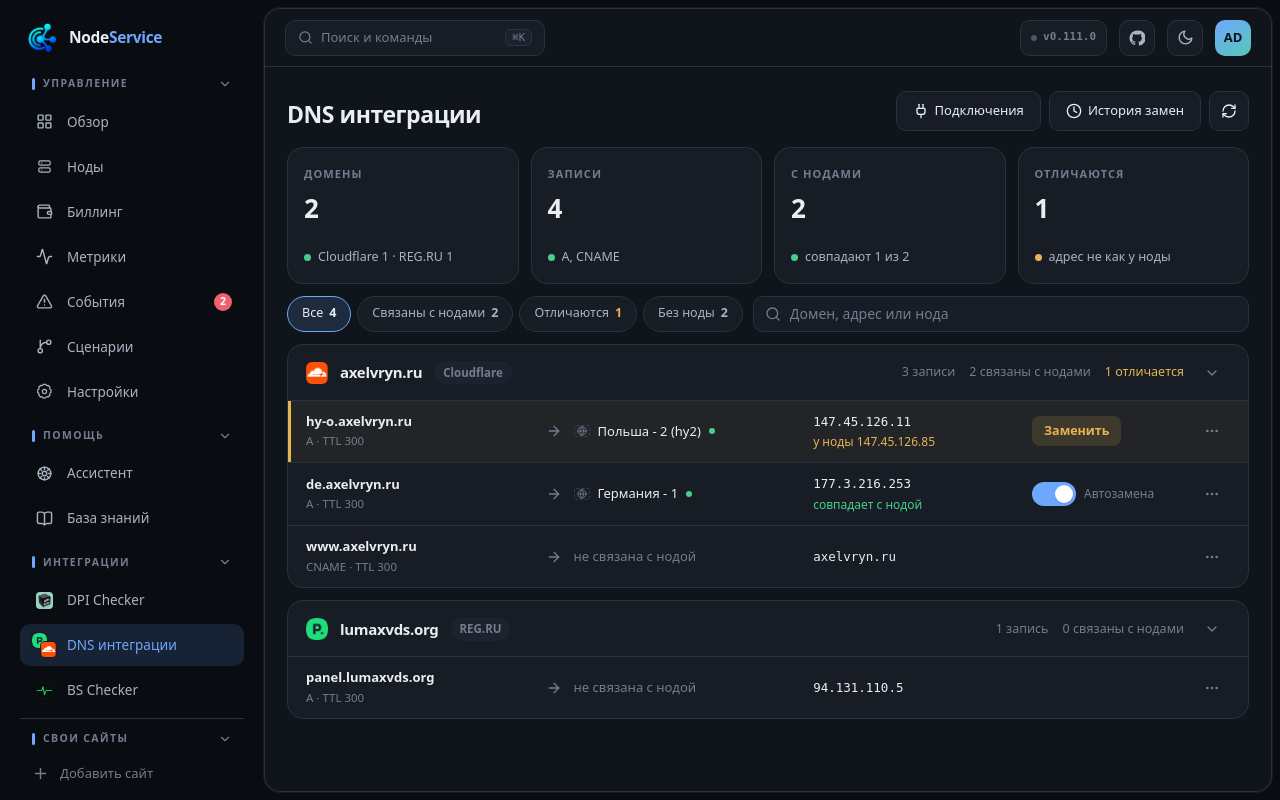
it: DNS: свой адрес вместо адреса ноды (вариант B) › запись без ноды открывается на «Свой адрес»: ошибка по-русски, замена уходит со своим адресом
Click the button with aria-label "Запись panel.lumaxvds.org" at (370, 677), box [306,668,1220,704]
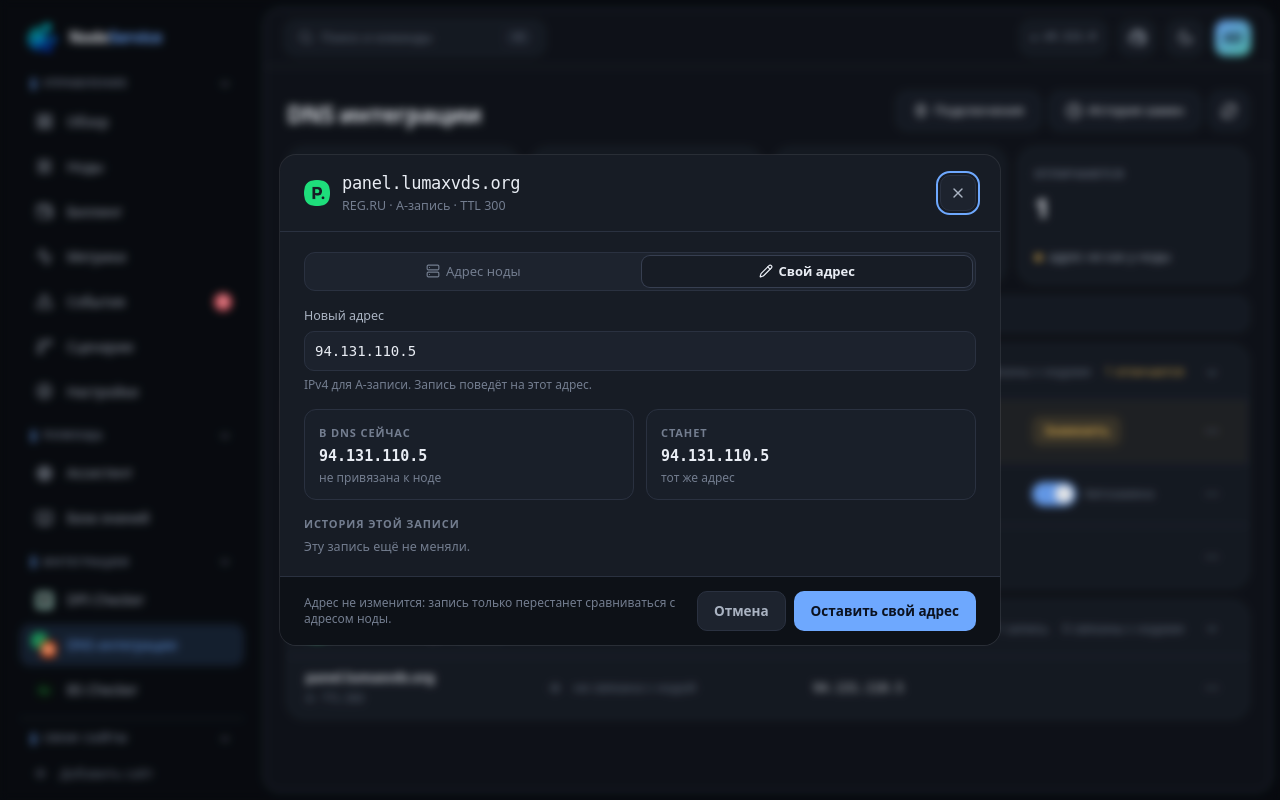
Check: the field labelled "Новый адрес" holds "94.131.110.5"
Replace the text in the field labelled "Новый адрес" with "203.0.113." at (640, 350), box [304,330,976,370]
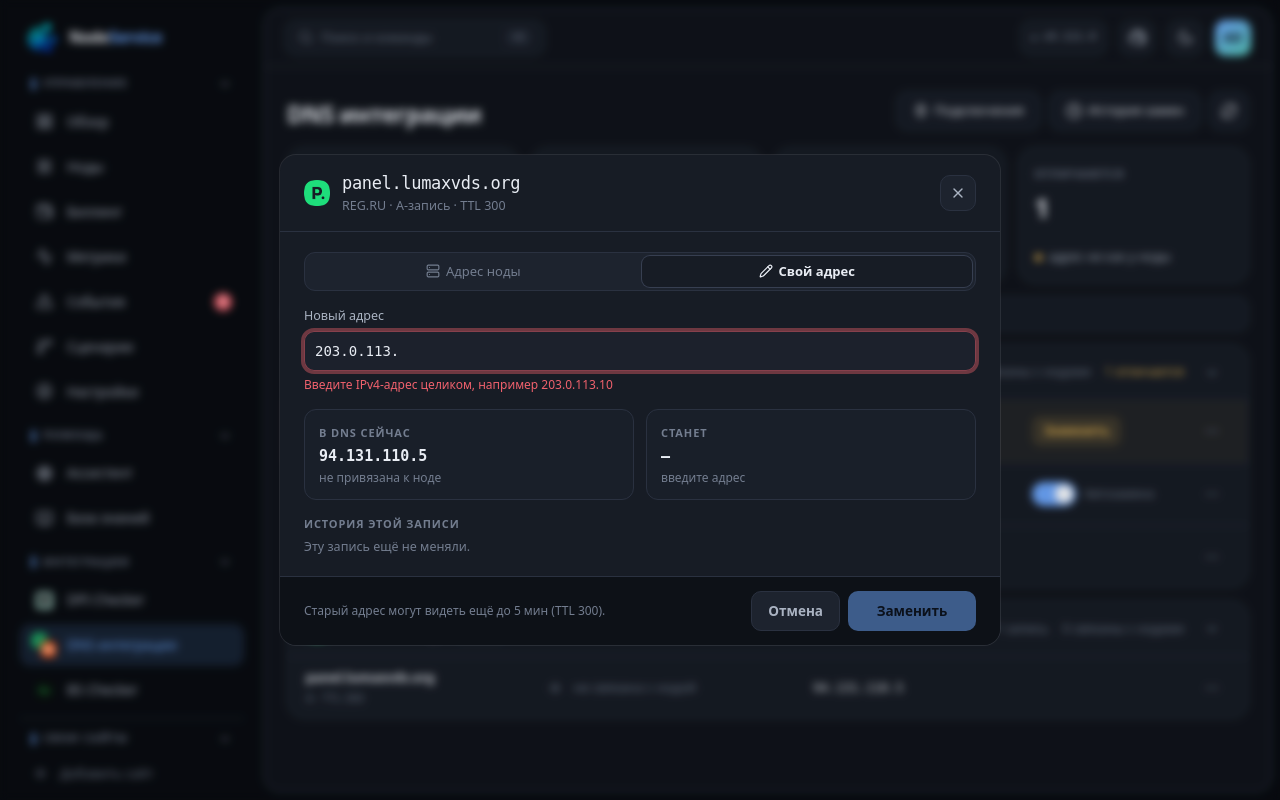
Check: the button "Заменить" is disabled, box [848,591,976,631]
Check: the text "Введите IPv4-адрес целиком, например 203.0.113.10" is shown, box [304,376,613,392]
Type "10" into the field labelled "Новый адрес" at (640, 350), box [304,330,976,370]
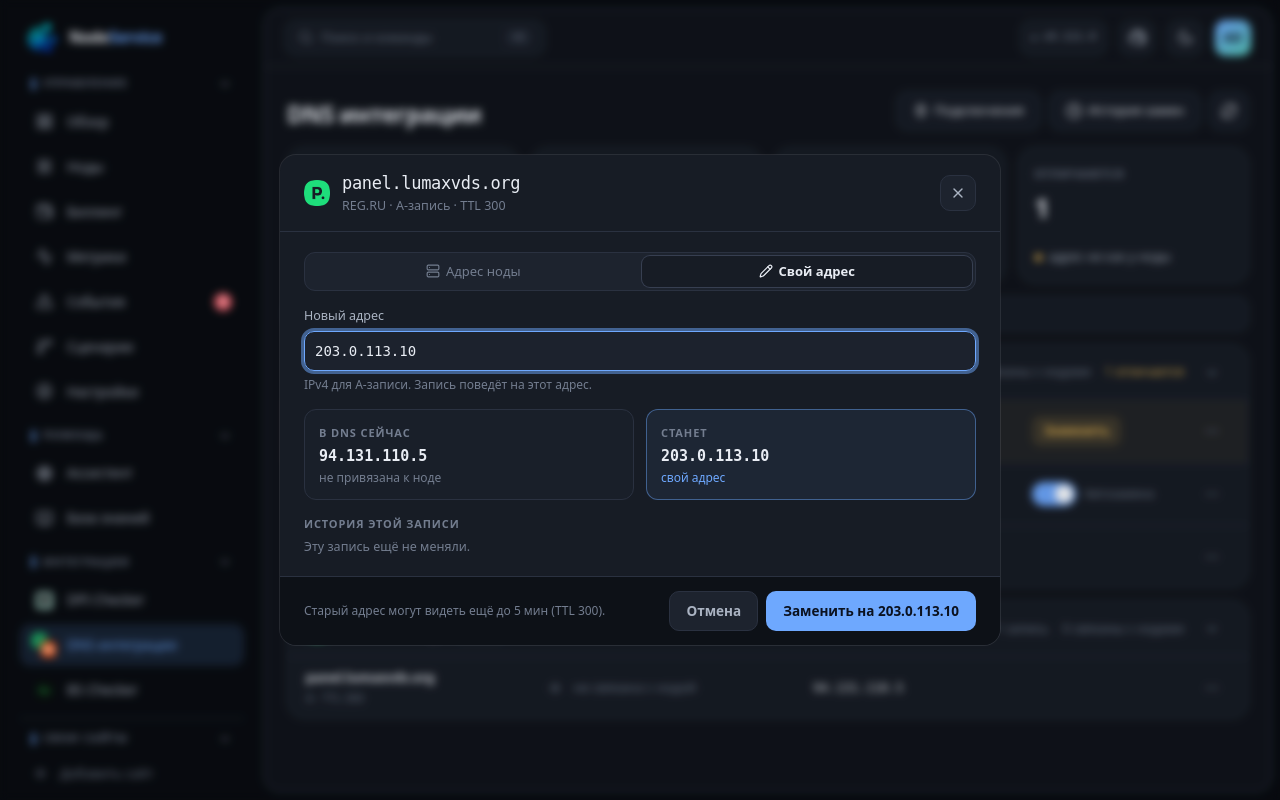
Check: the text "Введите IPv4-адрес целиком" is gone
Click the button "Заменить на 203.0.113.10" at (871, 611), box [766,591,976,631]
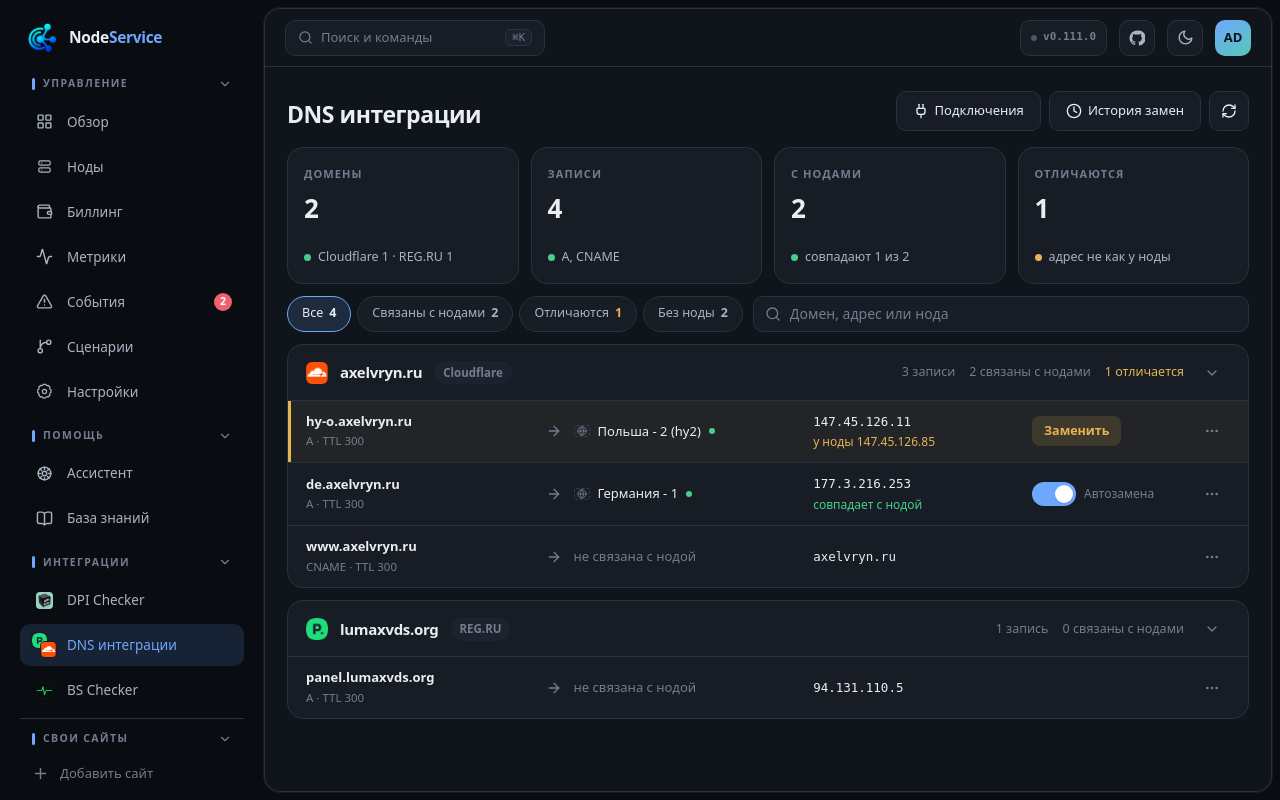
Check: the dialog is gone
